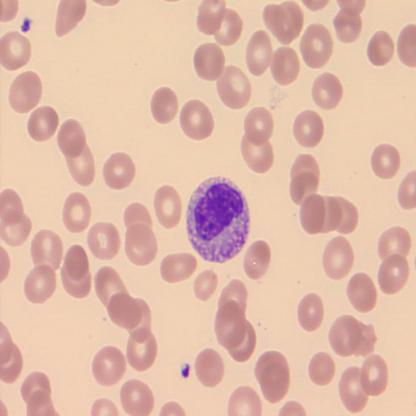Metamyelocyte: (185, 174, 251, 264)
